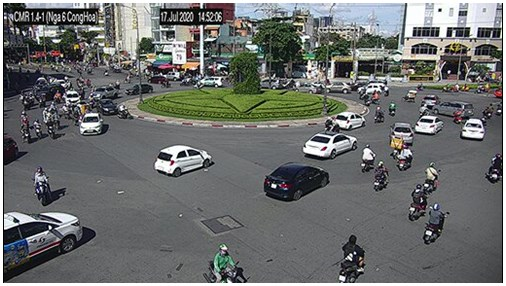xe_hoi: (3, 212, 82, 273), (263, 162, 330, 202), (154, 145, 213, 178), (302, 133, 358, 158), (432, 100, 473, 117), (389, 122, 415, 147), (460, 118, 487, 140), (79, 113, 102, 138), (416, 115, 444, 135), (338, 112, 366, 130), (125, 84, 155, 97), (91, 85, 118, 99), (357, 81, 383, 94), (323, 82, 351, 94), (199, 76, 223, 88), (293, 85, 322, 94), (63, 91, 80, 106), (257, 79, 282, 89), (422, 94, 438, 107)
xe_may: (205, 243, 243, 283), (338, 234, 367, 283), (425, 203, 445, 244), (33, 166, 51, 207), (409, 184, 427, 221), (424, 161, 441, 195), (373, 159, 389, 192), (488, 152, 502, 184), (361, 143, 375, 173), (398, 144, 413, 172), (325, 114, 340, 134), (21, 119, 32, 145), (118, 103, 134, 119), (46, 117, 57, 139), (20, 107, 30, 129), (34, 117, 43, 140), (419, 102, 431, 119), (374, 105, 385, 123), (401, 90, 416, 103), (452, 108, 462, 125), (388, 100, 397, 116), (37, 93, 46, 108), (52, 88, 60, 104), (372, 90, 381, 104), (483, 105, 490, 122), (161, 79, 172, 88), (364, 91, 370, 106), (415, 82, 424, 92), (441, 83, 450, 92), (461, 83, 469, 93), (496, 102, 502, 115), (383, 84, 389, 96)
